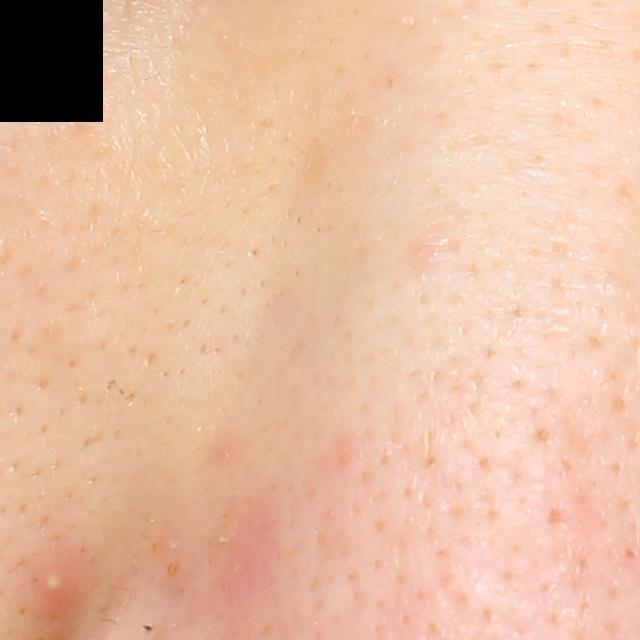pustule: (32, 553, 84, 604)
